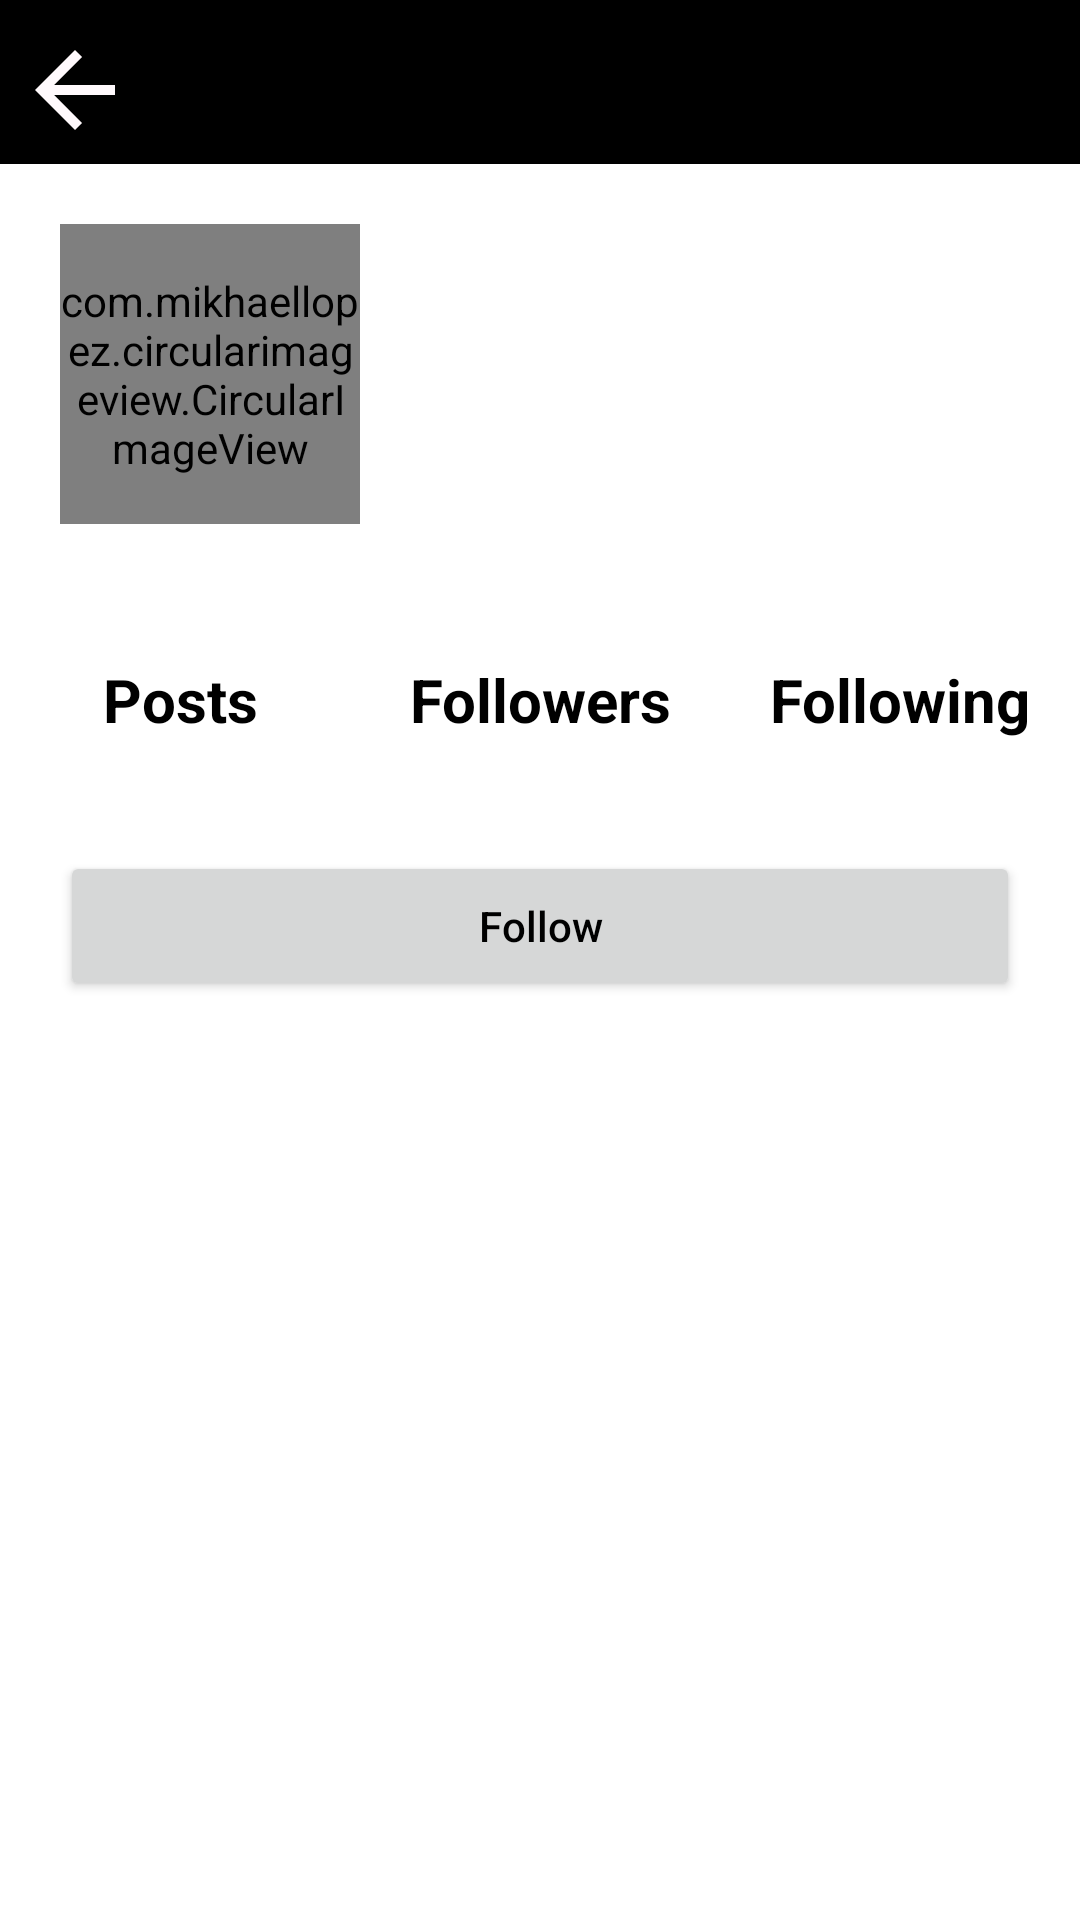

Screen size 1080px×1920px. Icon name, then its center in pixels as [x,y]:
back arrow: [75,90]
